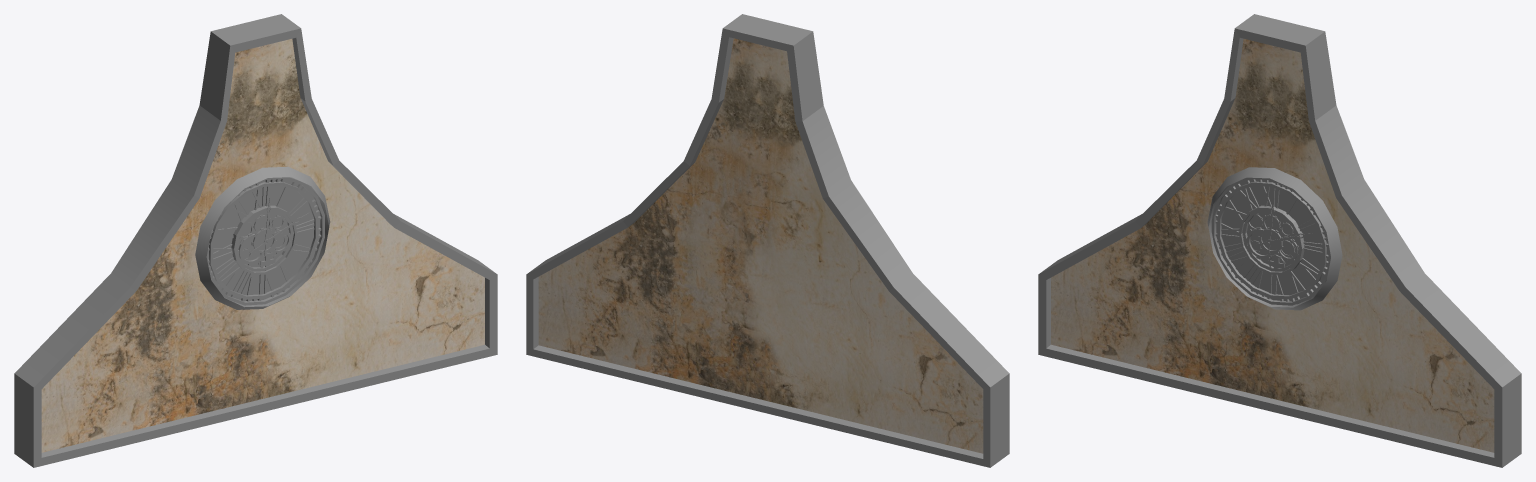
The model's file is Batiments cap.FBX.
3 renders of one model, left to right at view 1: azimuth 30°, elevation 25°; view 2: azimuth 150°, elevation 25°; view 3: azimuth 330°, elevation 25°, orthographic.
Visible parts, largest first — view 1: Object007; view 2: Object007; view 3: Object007.
Boxes of the visible parts, x1=… form: Object007: x1=14, y1=14, x2=497, y2=467; Object007: x1=526, y1=14, x2=1009, y2=467; Object007: x1=1038, y1=14, x2=1521, y2=467.
Bounding box in the file's own units: 312 × 26.52 × 241.
Materials: 5 (1 with a texture image).
